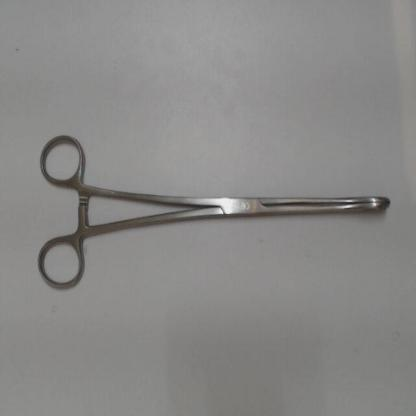Sponge Forceps: (31, 128, 402, 302)
